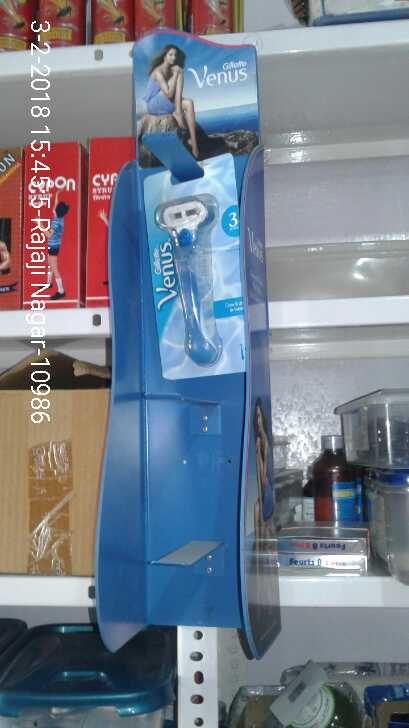venus: (139, 161, 261, 383)
